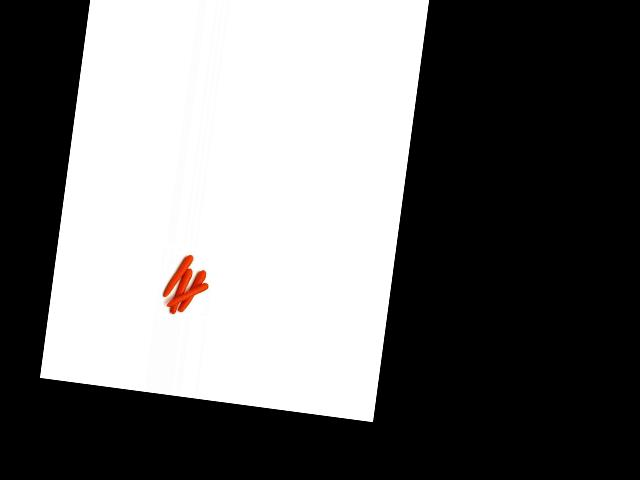carrot: (179, 265, 209, 315)
